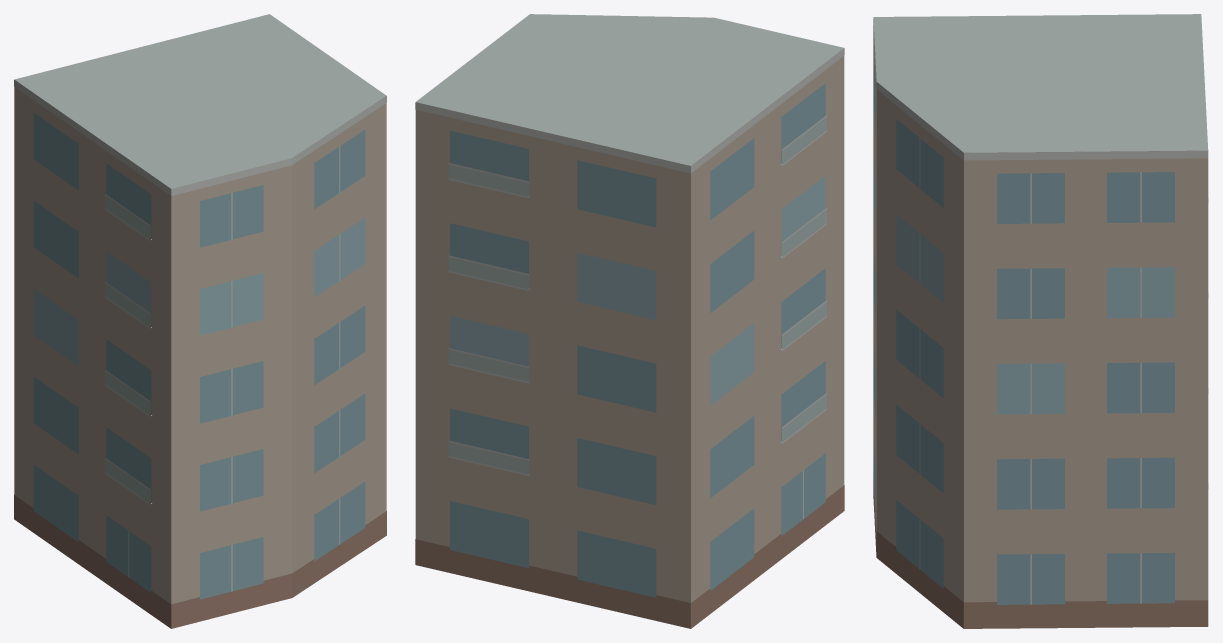
File: survey-upis-32620853.glb
3 renders of one model, left to right at view 1: azimuth 30°, elevation 25°; view 2: azimuth 150°, elevation 25°; view 3: azimuth 270°, elevation 25°, orthographic. The views are drawn at different scales.
Parts seen in each view (by area): view 1: survey-upis-32620853.tmp; view 2: survey-upis-32620853.tmp; view 3: survey-upis-32620853.tmp.
Boxes of the visible parts, left/top/right/bottom form: survey-upis-32620853.tmp: left=14, top=14, right=386, bottom=628; survey-upis-32620853.tmp: left=415, top=14, right=844, bottom=628; survey-upis-32620853.tmp: left=873, top=14, right=1208, bottom=628.
Bounding box in the file's own units: 9.42 × 15.05 × 9.61.
